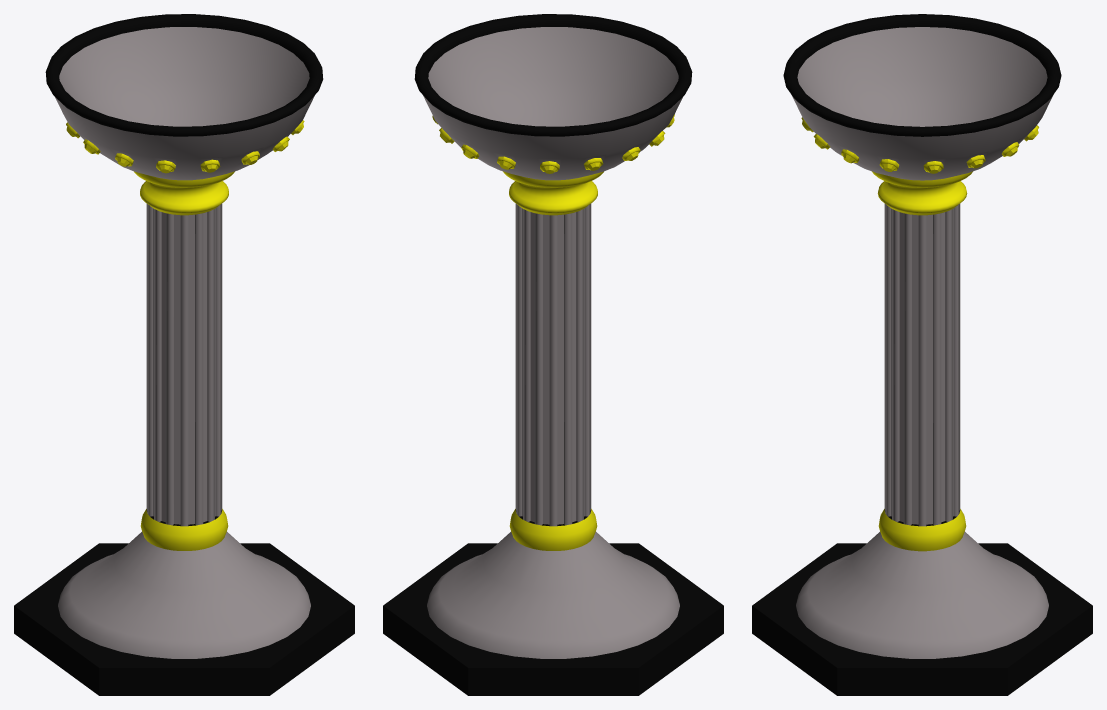
File: firepit.fbx
The picture shows the model from 3 angles, left to right: view 1: azimuth 30°, elevation 25°; view 2: azimuth 150°, elevation 25°; view 3: azimuth 270°, elevation 25°; orthographic projection.
Parts seen in each view (by area): view 1: Cylinder; view 2: Cylinder; view 3: Cylinder.
Part boxes in pixels (x1,y1,x2,y2): Cylinder: (14,14,354,695); Cylinder: (383,14,723,695); Cylinder: (752,14,1092,695).
Bounding box in the file's own units: 11694 × 24579 × 13504.
